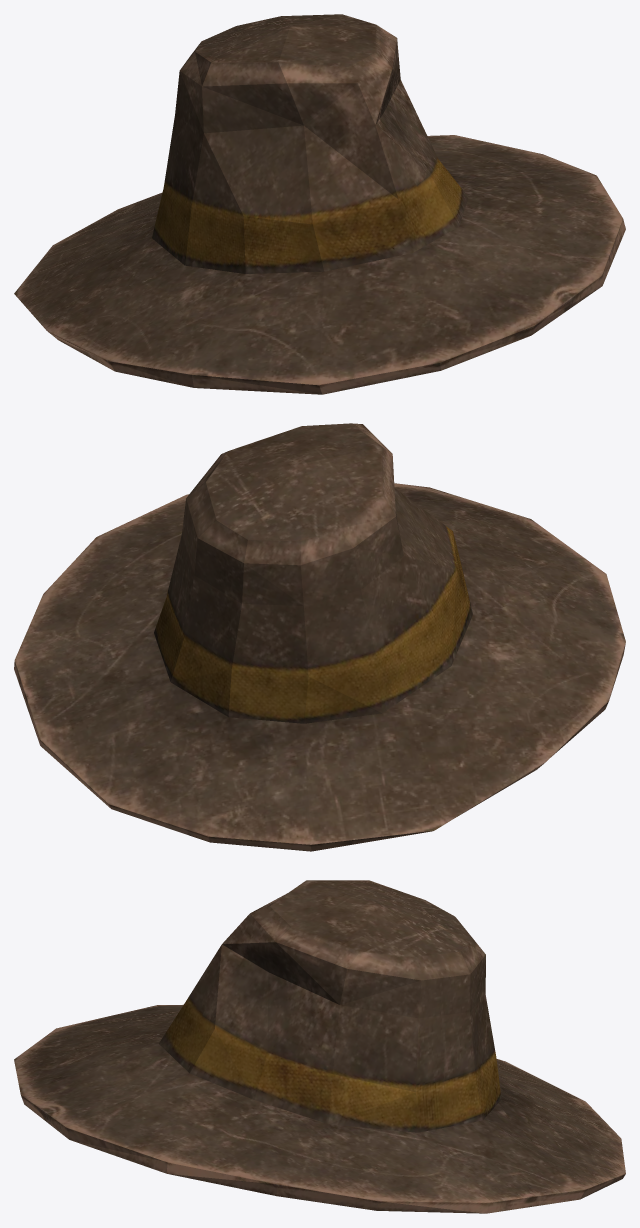
File: KOZA_KAPELUSZ_01.glb
3 views of the same model, one above another, from view 1: azimuth 30°, elevation 25°; view 2: azimuth 150°, elevation 25°; view 3: azimuth 270°, elevation 25° (orthographic). The views are drawn at different scales.
Parts seen in each view (by area): view 1: KOZA_KAPELUSZ_01; view 2: KOZA_KAPELUSZ_01; view 3: KOZA_KAPELUSZ_01.
Part boxes in pixels (x1,y1,x2,y2): KOZA_KAPELUSZ_01: (14,14,625,394); KOZA_KAPELUSZ_01: (14,423,625,851); KOZA_KAPELUSZ_01: (14,880,625,1213).
Bounding box in the file's own units: 0.4119 × 0.2216 × 0.4628.
Materials: 1 (1 with a texture image).
